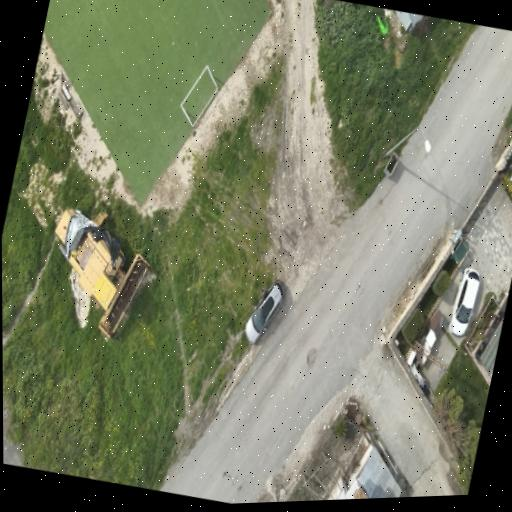car: (244, 280, 284, 343), (448, 269, 479, 336)
harvester: (55, 209, 149, 338)
person: (260, 287, 266, 296)
